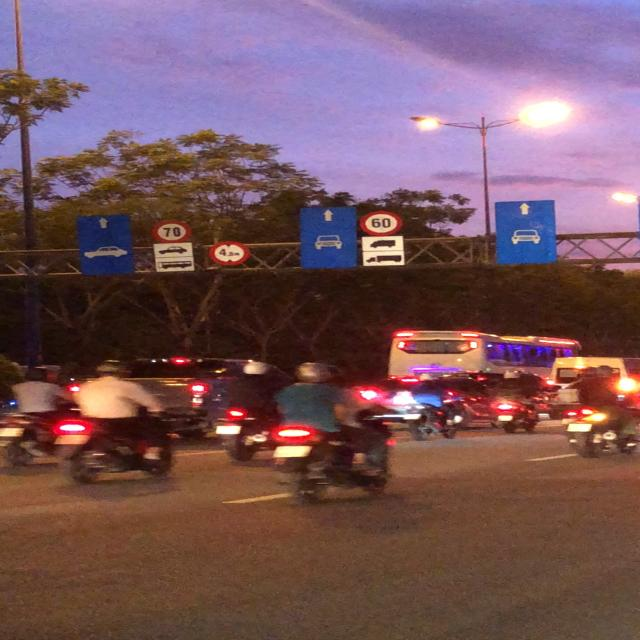Bien bao han che chieu cao: (205, 240, 253, 264)
Bien bao toc do toi da cho phep: (354, 207, 412, 237), (148, 217, 190, 243)
